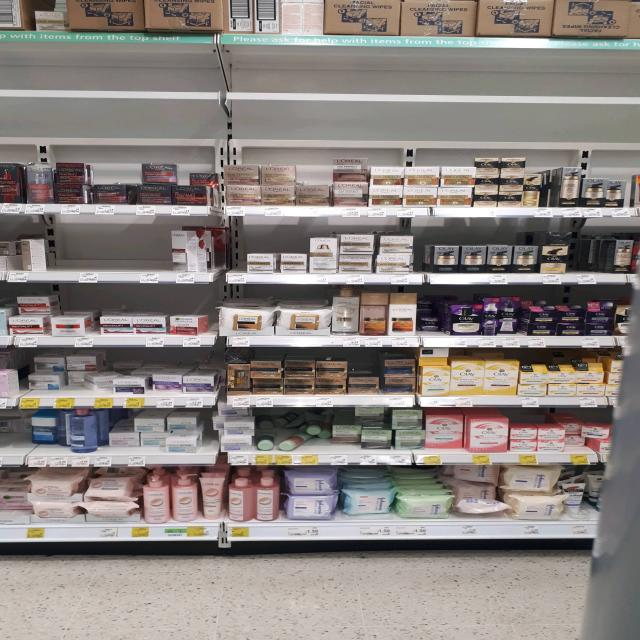empty: (47, 219, 170, 273), (4, 414, 31, 448)
